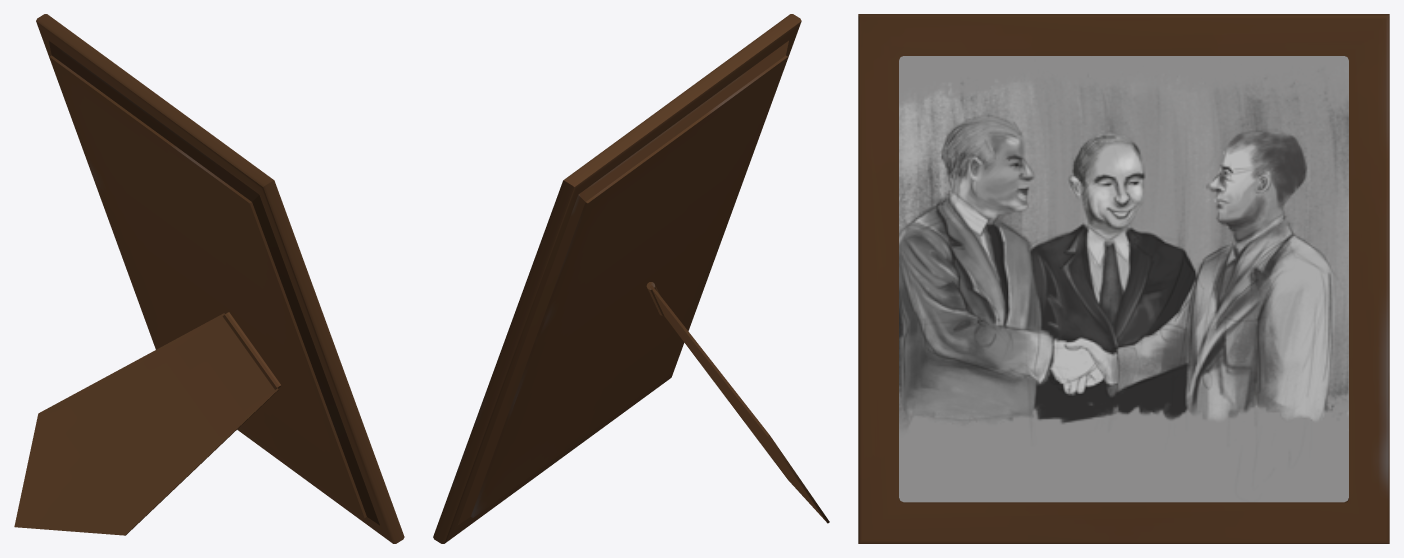
Rendered from PictureFrame.fbx.
The picture shows the model from 3 angles, left to right: view 1: azimuth 30°, elevation 25°; view 2: azimuth 150°, elevation 25°; view 3: azimuth 270°, elevation 25°; orthographic projection. The views are drawn at different scales.
Parts seen in each view (by area): view 1: PictureFrame; view 2: PictureFrame; view 3: PictureFrame.
Part boxes in pixels (x1,y1,x2,y2): PictureFrame: (14,14,404,543); PictureFrame: (433,14,829,543); PictureFrame: (858,14,1389,543).
Bounding box in the file's own units: 0.4055 × 0.5438 × 0.5723.
